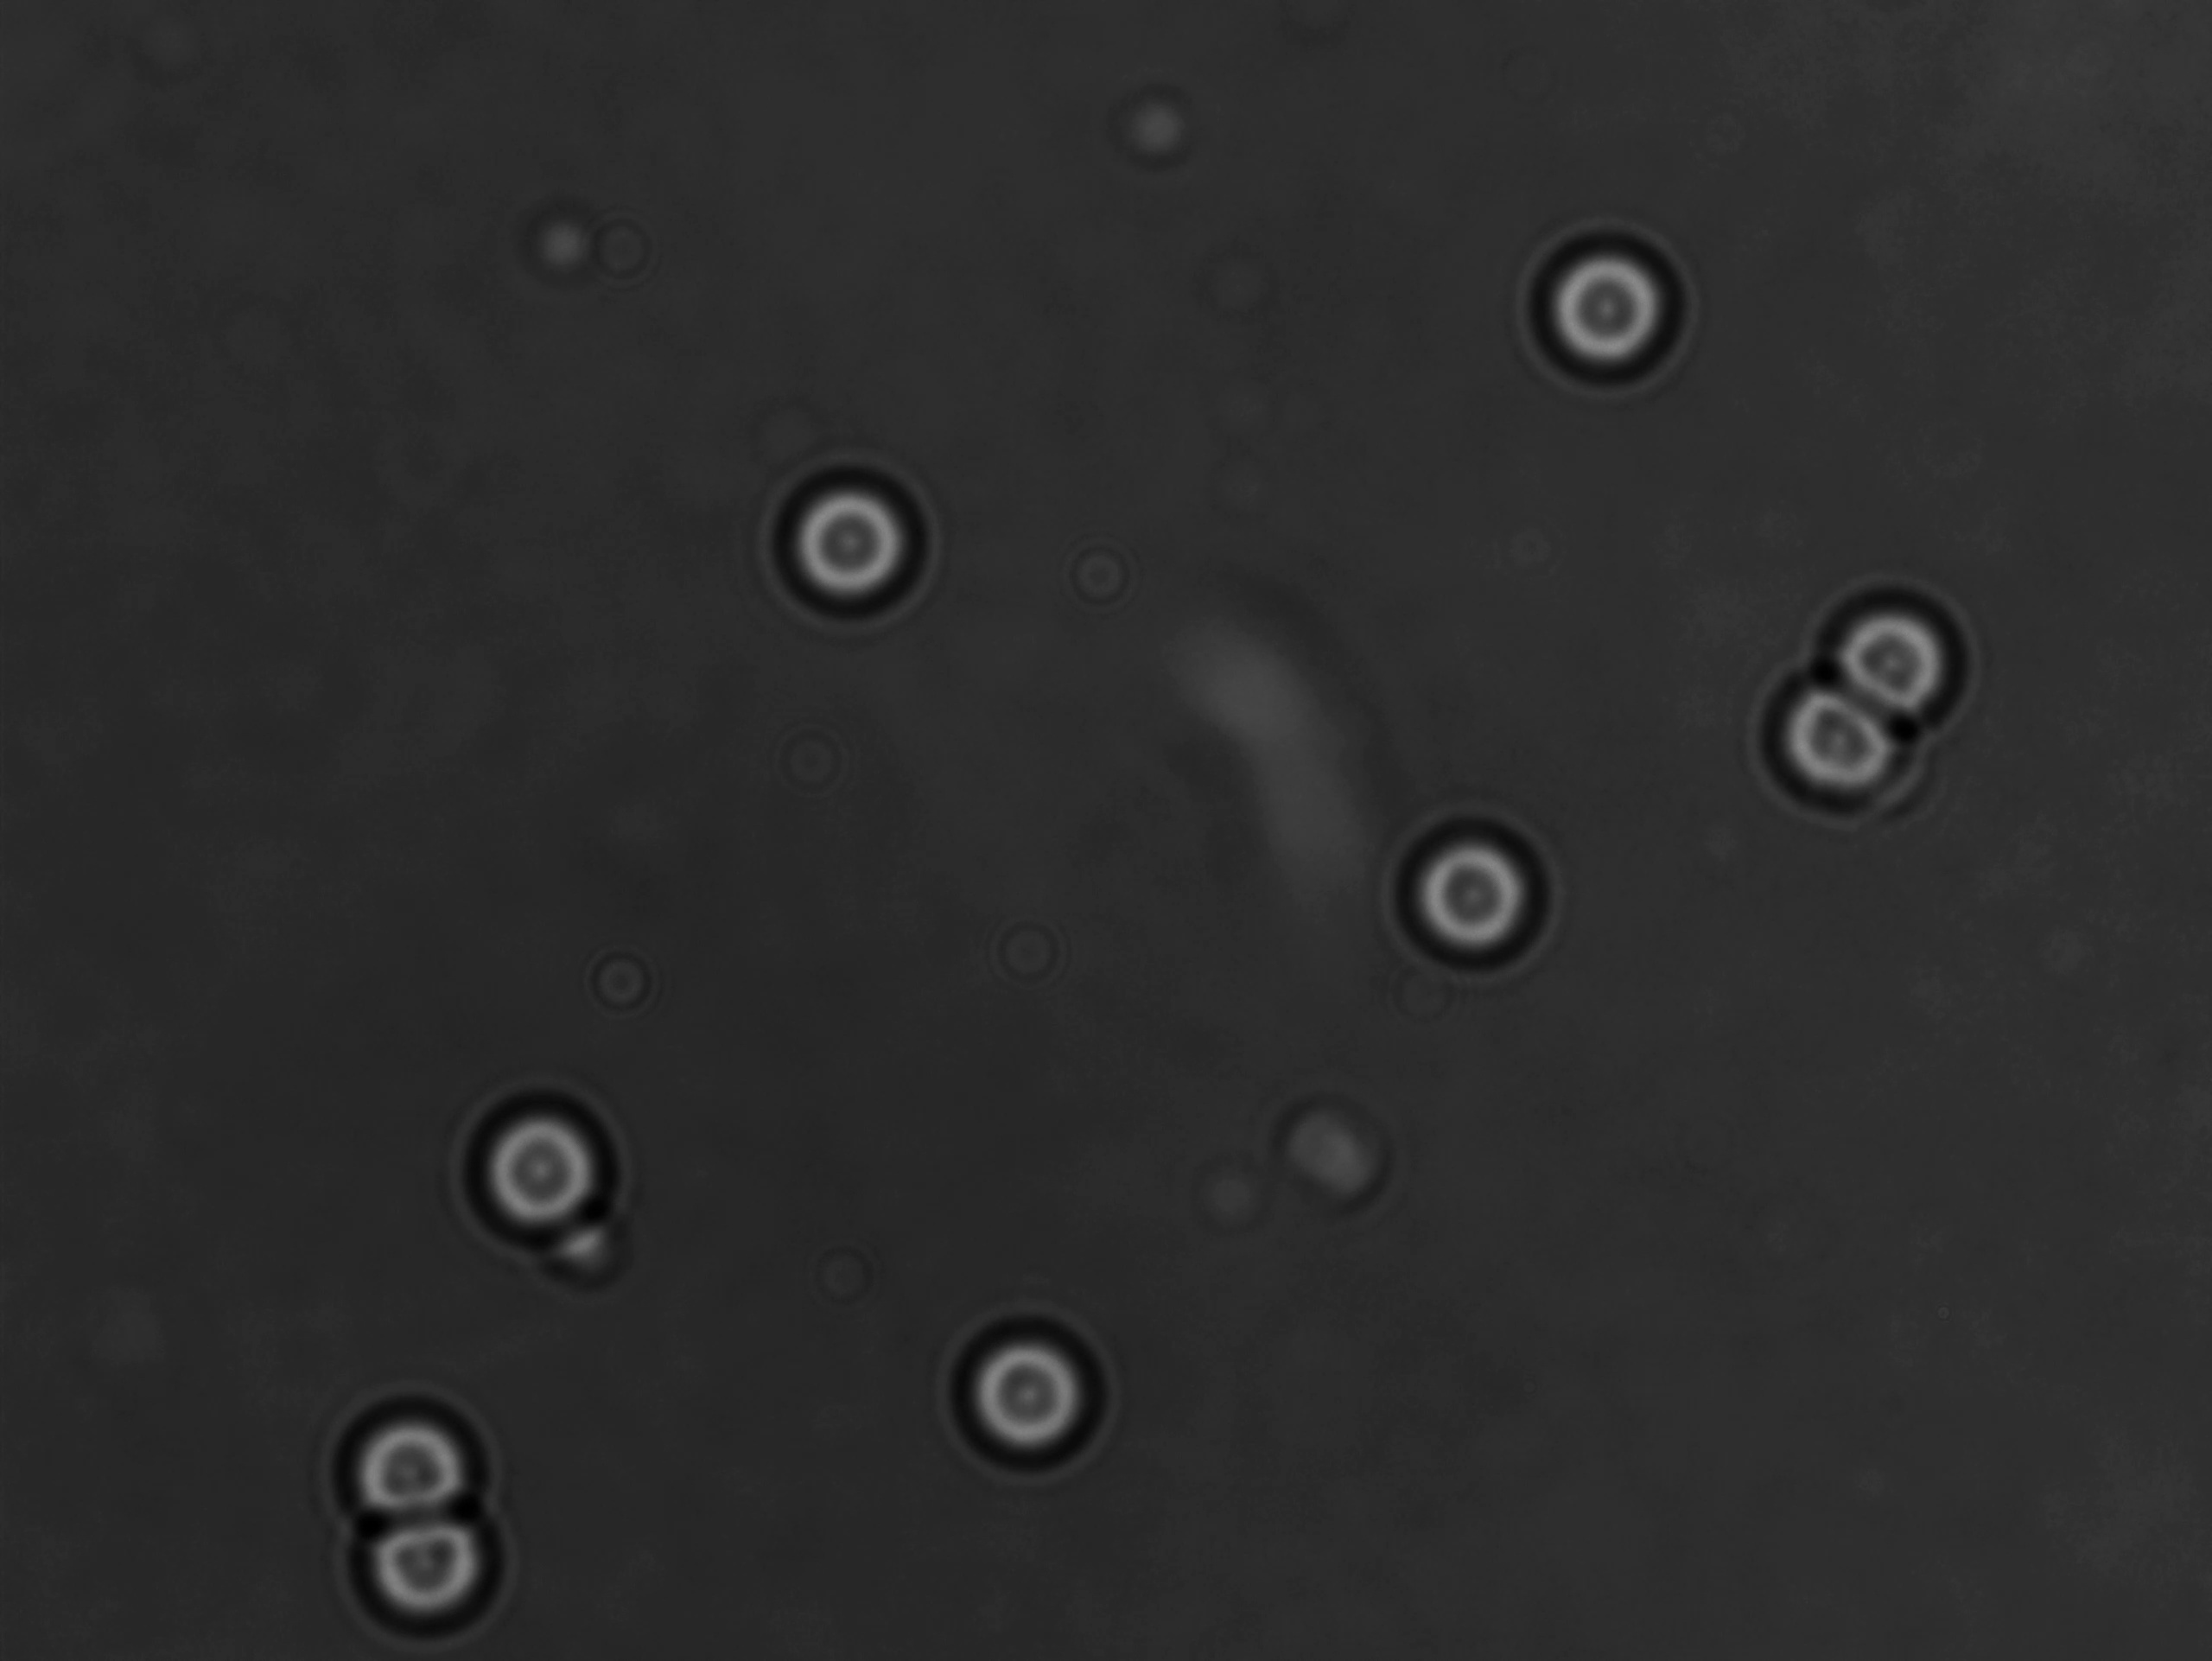depth:20: (1519, 213, 1696, 389), (462, 1083, 645, 1251), (759, 466, 932, 632), (937, 1314, 1113, 1473), (1387, 813, 1553, 974)
